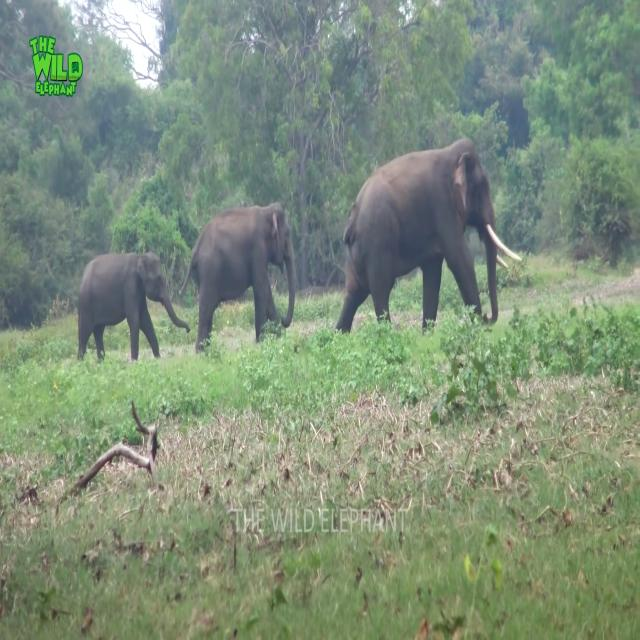Elephant: (334, 137, 522, 335), (178, 201, 296, 354), (77, 250, 190, 363)
